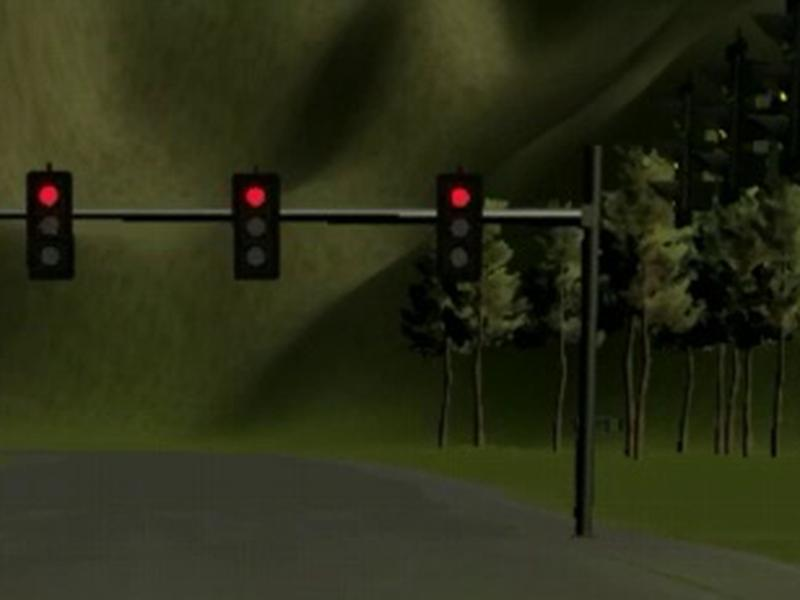Red: (232, 175, 282, 279), (27, 172, 75, 280), (436, 176, 483, 280)
